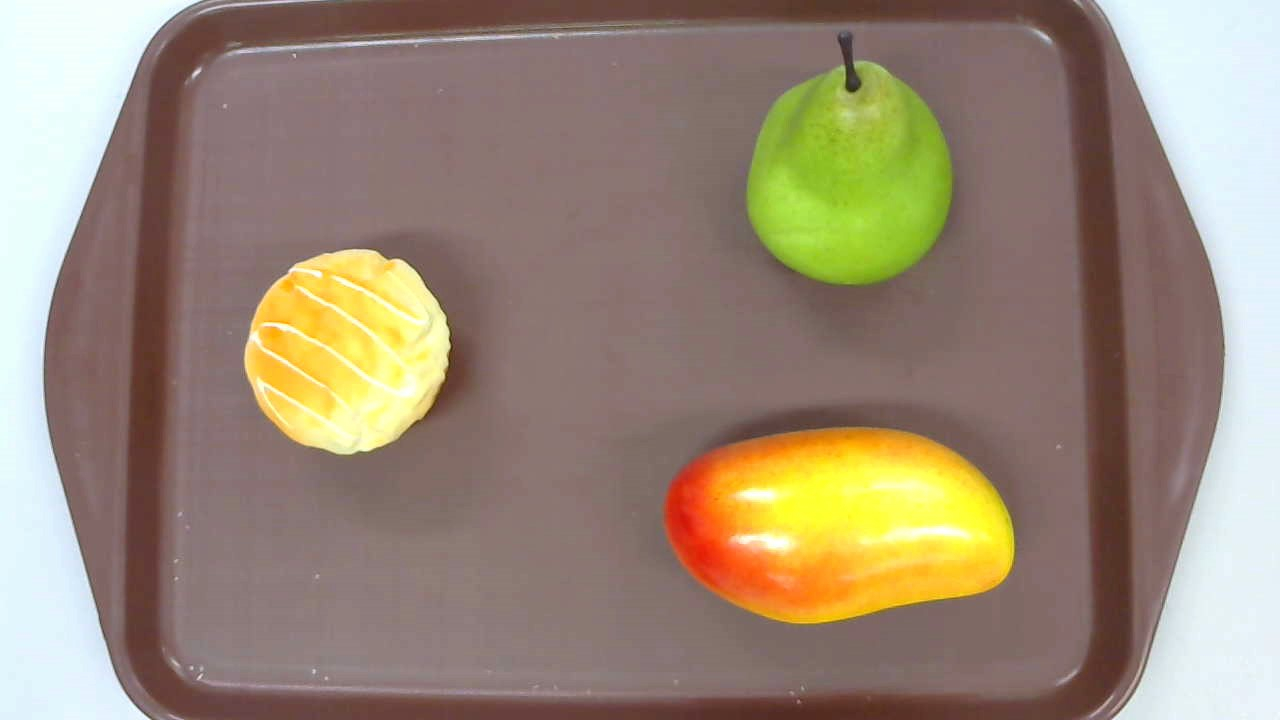cupcake: (244, 249, 450, 456)
green pear: (745, 32, 952, 288)
red mango: (662, 426, 1014, 626)
